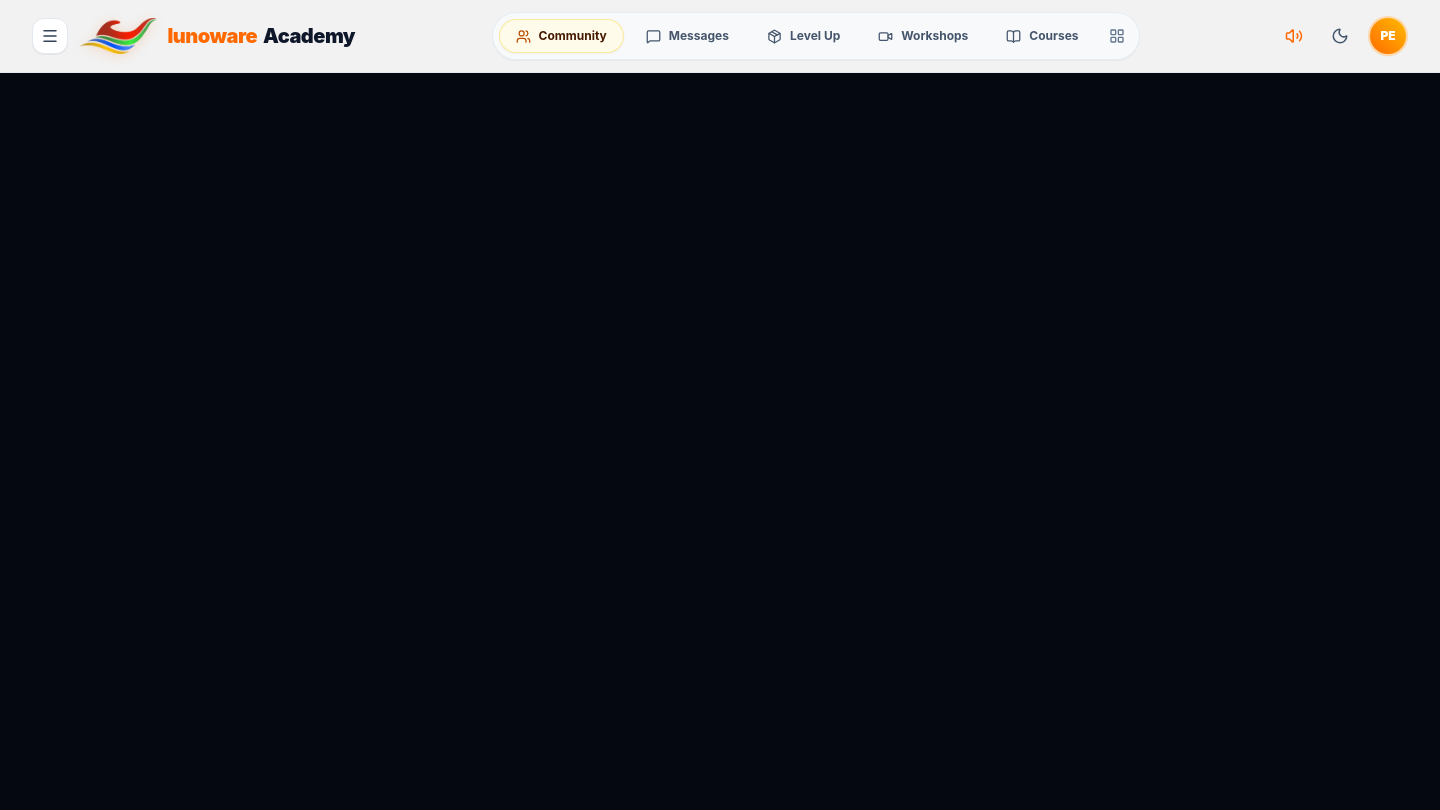
it: CommunityTopNav Responsive Behavior (Mobile Landscape, Mobile Portrait & Tablet Portrait) › opens and closes the slide-out workspace navigation drawer with scroll-safe container
The image size is (1440, 810).
Click the button named "open workspace navigation": (50, 36) [32, 18, 68, 54]
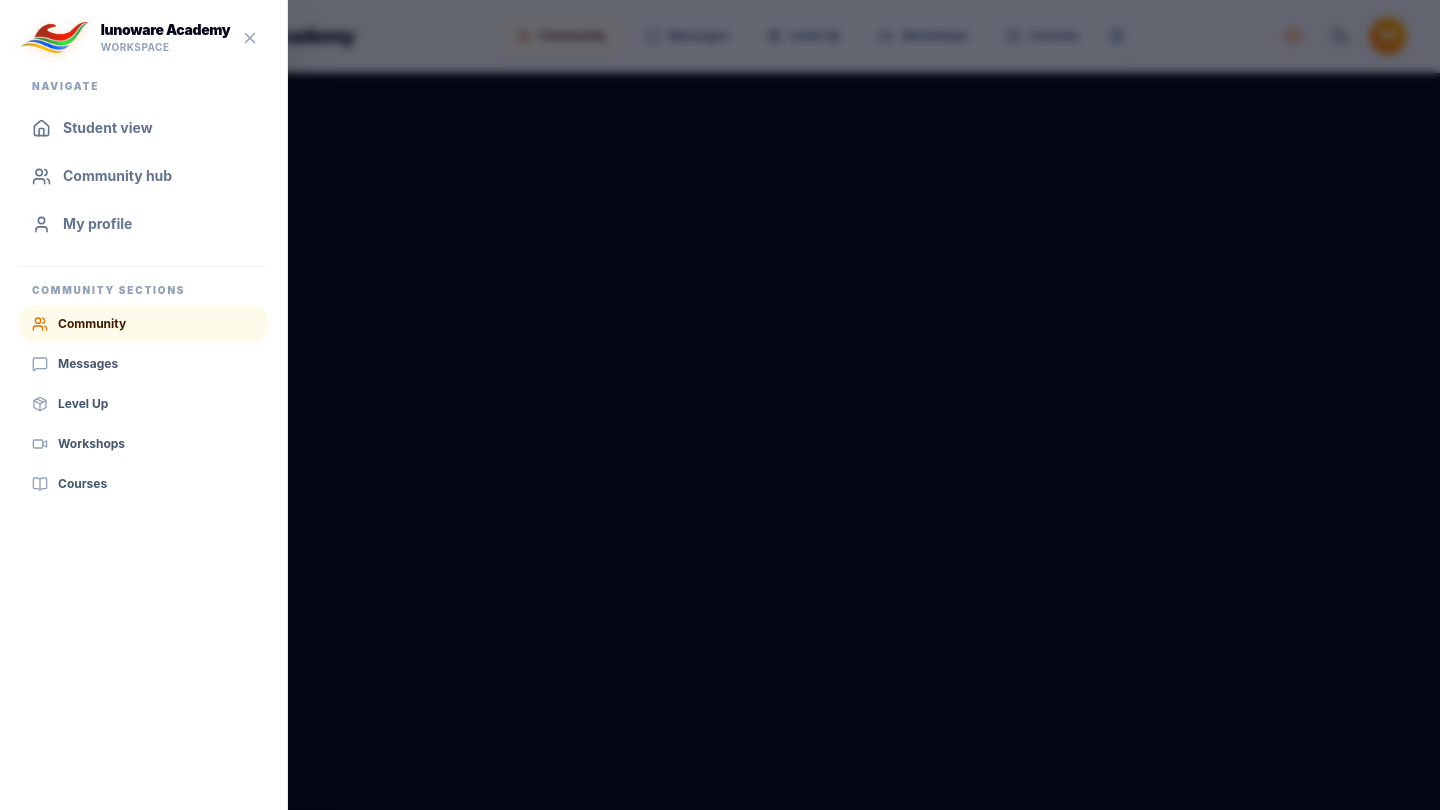
expect the text "Workspace" is shown: met, box [101, 41, 170, 53]
expect the text "Community Sections" is shown: met, box [32, 284, 185, 296]
expect the button named "close navigation" is shown: met
Click the button named "close navigation": (250, 38) [233, 20, 267, 54]
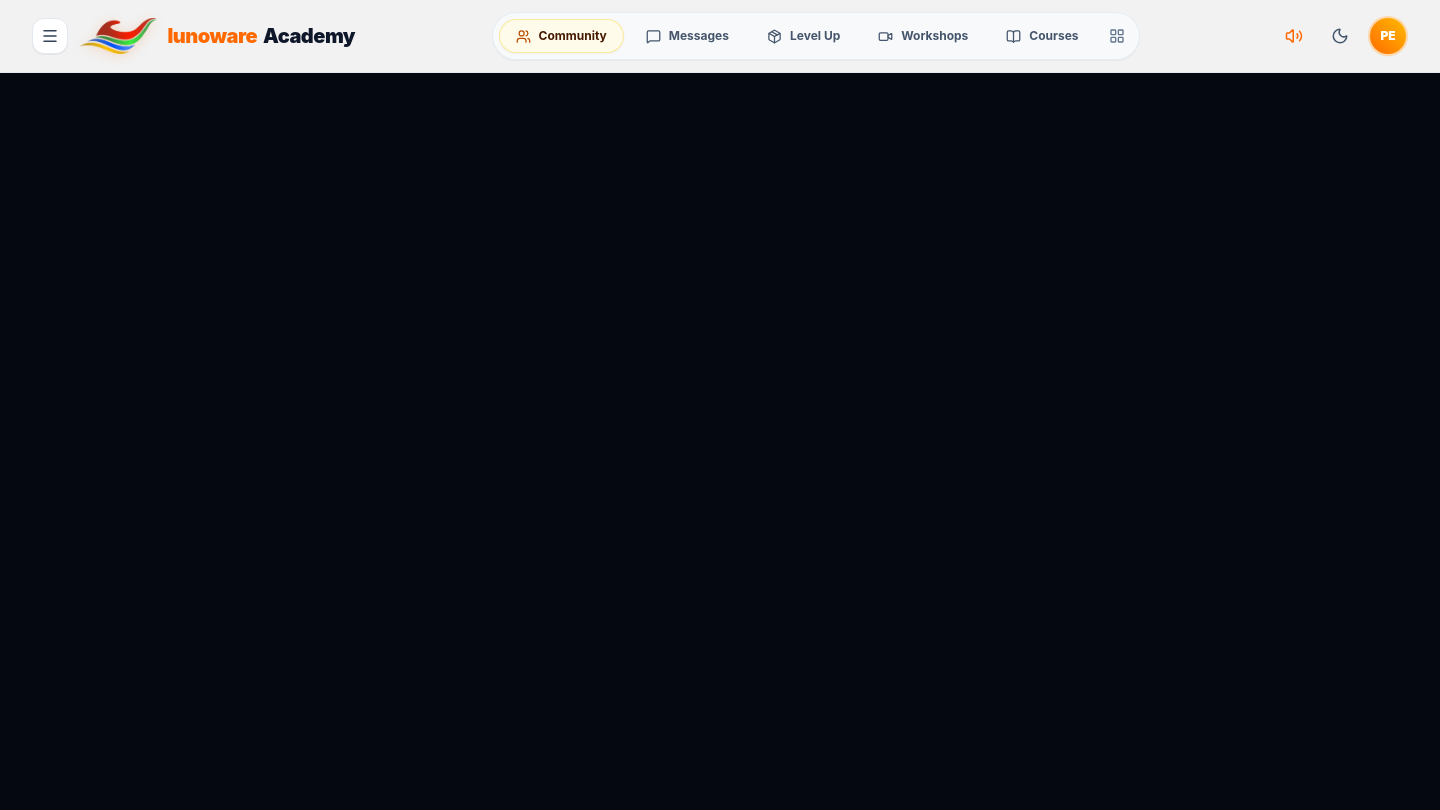
expect the text "Workspace" is gone: met
